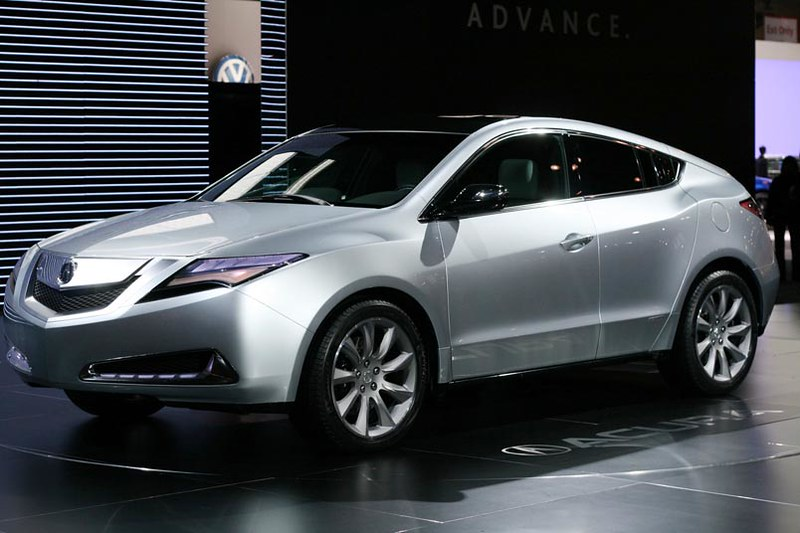car: (14, 112, 783, 449)
